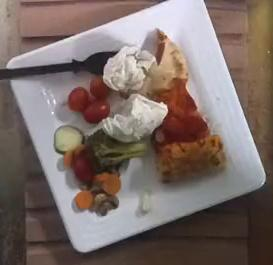broccoli: (86, 130, 147, 166)
pizza: (141, 29, 226, 182)
tomato: (68, 76, 110, 123)
vegetables: (53, 125, 119, 213)
